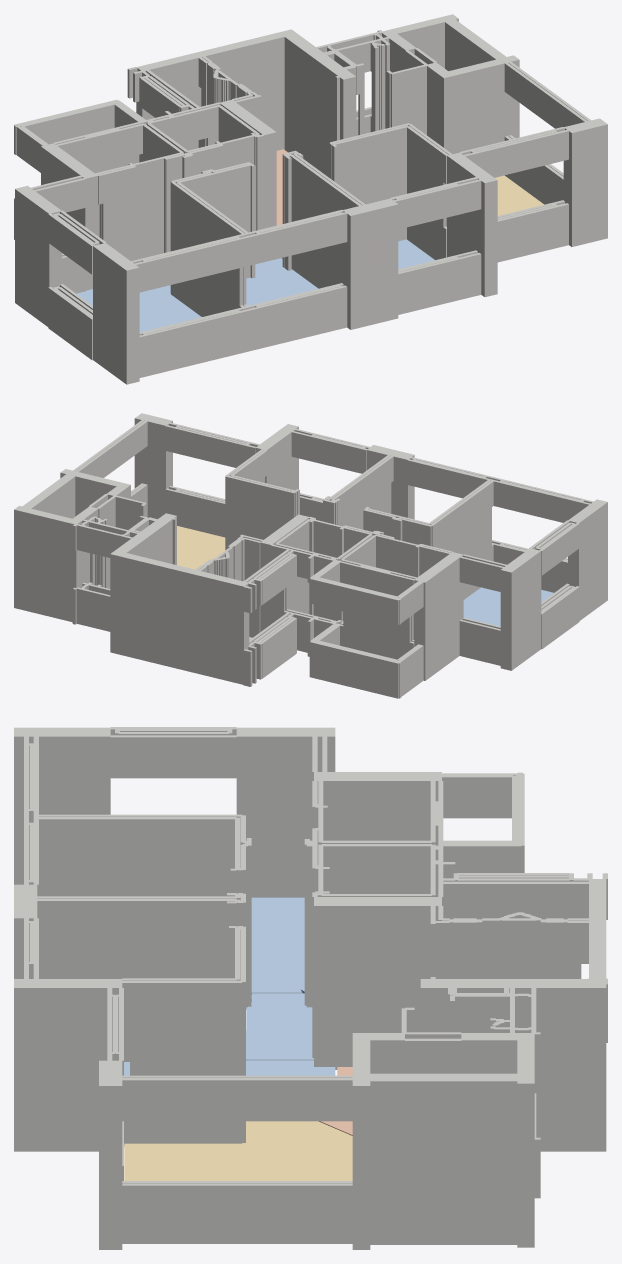
3 views of the same model, one above another, from view 1: azimuth 30°, elevation 25°; view 2: azimuth 150°, elevation 25°; view 3: azimuth 270°, elevation 25° (orthographic). The views are drawn at different scales.
Visible parts, largest first — view 1: walls, room:bedroom:1, room:bedroom:3, room:living:2, room:bedroom:0, room:kitchen:10; view 2: walls, room:living:2, room:bedroom:3; view 3: walls, room:living:2, room:bedroom:3, room:bedroom:1, room:bedroom:0.
Part boxes in pixels (x1,y1,x2,y2): walls: (14,14,607,384); room:bedroom:1: (246,258,318,305); room:bedroom:3: (77,285,201,332); room:living:2: (495,175,543,215); room:bedroom:0: (282,239,434,269); room:kitchen:10: (276,149,287,225); walls: (14,413,607,698); room:living:2: (177,526,225,569); room:bedroom:3: (463,587,553,626); walls: (14,727,607,1249); room:living:2: (124,1121,352,1180); room:bedroom:3: (251,897,304,995); room:bedroom:1: (246,993,313,1060); room:bedroom:0: (124,1060,335,1075).
Bounding box in the file's own units: 13.15 × 2.8 × 9.2.
